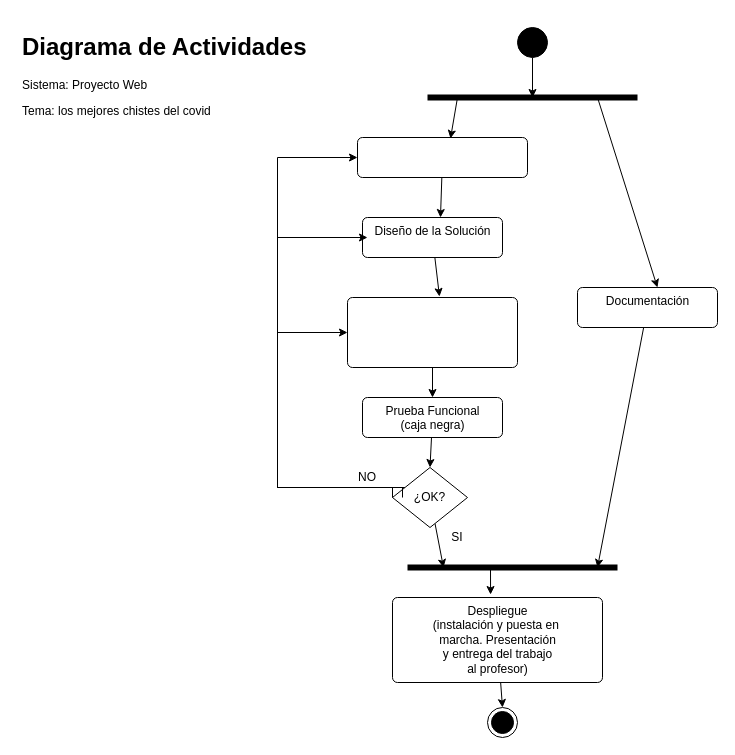
Some shapes in this 735 by 755 pixel diagram are drawn without their labels. The shapes that lost their labels are listed below. From the top down, each one's centre as x and y in pixels, then its label:
At [442,157]: "Análisis de Requerimientos (entrevista con el cliente)".
At [432,332]: "Desarrollo (organización, gestión de recursos, planificación, programación)".
